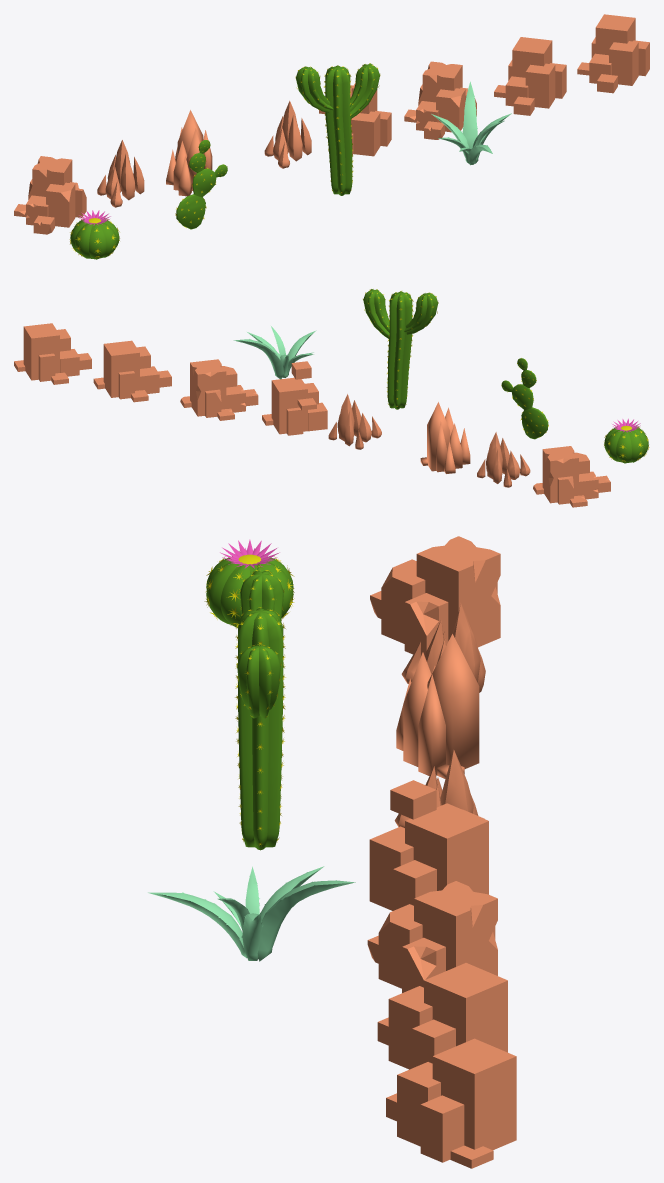
The model's file is poly-desert-source.glb.
The picture shows the model from 3 angles, top to bottom: view 1: azimuth 30°, elevation 25°; view 2: azimuth 150°, elevation 25°; view 3: azimuth 270°, elevation 25°; orthographic projection. The views are drawn at different scales.
Parts seen in each view (by area): view 1: Candelabre.1, Cube.016, Cube.017, Cube.001, Cube.015, Cube.012, Cube.014, Beavertail, Aloe., Cube.013, Cube.011, Barrel; view 2: Candelabre.1, Cube.014, Cube.016, Cube.017, Cube.001, Cube.015, Cube.012, Beavertail, Cube.011, Cube.013, Aloe., Barrel; view 3: Cube.017, Candelabre.1, Cube.014, Cube.001, Cube.015, Cube.016, Cube.012, Aloe., Barrel, Cube.011, Cube.013, Candelabre-thorns.
Part boxes in pixels (box(x1,y1,x2,y2)): Candelabre.1: box(296, 63, 379, 195); Cube.016: box(494, 37, 566, 115); Cube.017: box(577, 14, 649, 93); Cube.001: box(14, 156, 86, 234); Cube.015: box(404, 61, 476, 139); Cube.012: box(166, 110, 212, 196); Cube.014: box(319, 83, 391, 156); Beavertail: box(176, 140, 227, 229); Aloe.: box(431, 81, 511, 165); Cube.013: box(264, 100, 311, 168); Cube.011: box(97, 140, 144, 207); Barrel: box(70, 218, 119, 259); Candelabre.1: box(363, 289, 438, 409); Cube.014: box(262, 361, 327, 435); Cube.016: box(93, 340, 171, 402); Cube.017: box(14, 323, 91, 384); Cube.001: box(533, 446, 610, 507); Cube.015: box(180, 359, 258, 420); Cube.012: box(420, 402, 470, 473); Beavertail: box(501, 358, 548, 439); Cube.011: box(477, 432, 530, 487); Cube.013: box(328, 394, 381, 449); Aloe.: box(233, 326, 316, 379); Barrel: box(604, 426, 648, 463); Cube.017: box(386, 1038, 516, 1168); Candelabre.1: box(237, 571, 283, 850); Cube.014: box(369, 780, 488, 910); Cube.001: box(370, 536, 500, 655); Cube.015: box(367, 881, 497, 992); Cube.016: box(377, 963, 507, 1069); Cube.012: box(396, 634, 479, 778); Aloe.: box(148, 866, 355, 961); Barrel: box(206, 556, 293, 627); Cube.011: box(401, 603, 485, 692); Cube.013: box(394, 749, 478, 827); Candelabre-thorns: box(235, 570, 285, 845).
Size of the model in its own units: 44.89 by 9.23 by 12.43.
